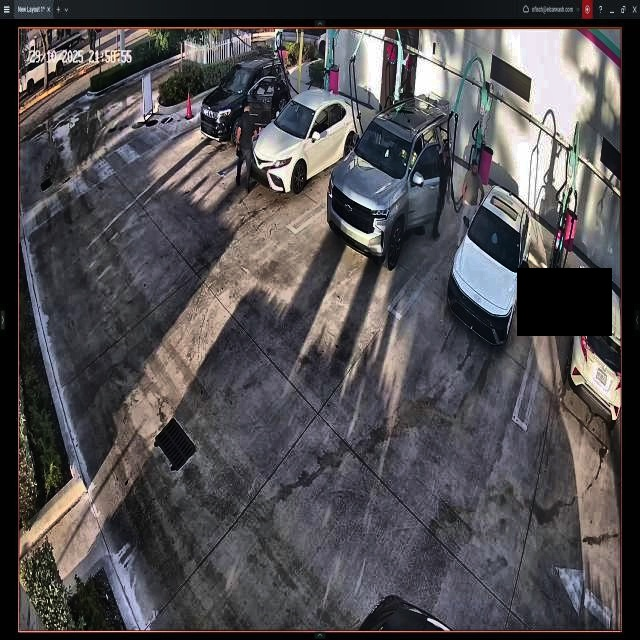Car: (329, 97, 451, 265), (451, 188, 530, 347), (251, 88, 358, 191)
